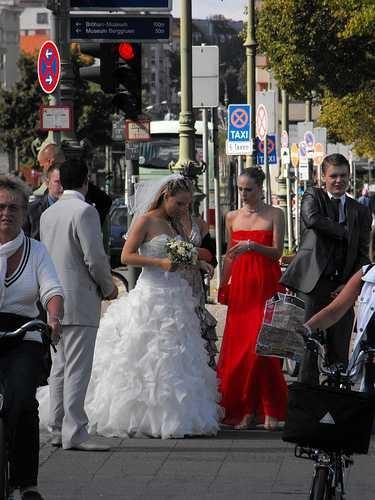red: (115, 40, 142, 118), (117, 37, 138, 64)
